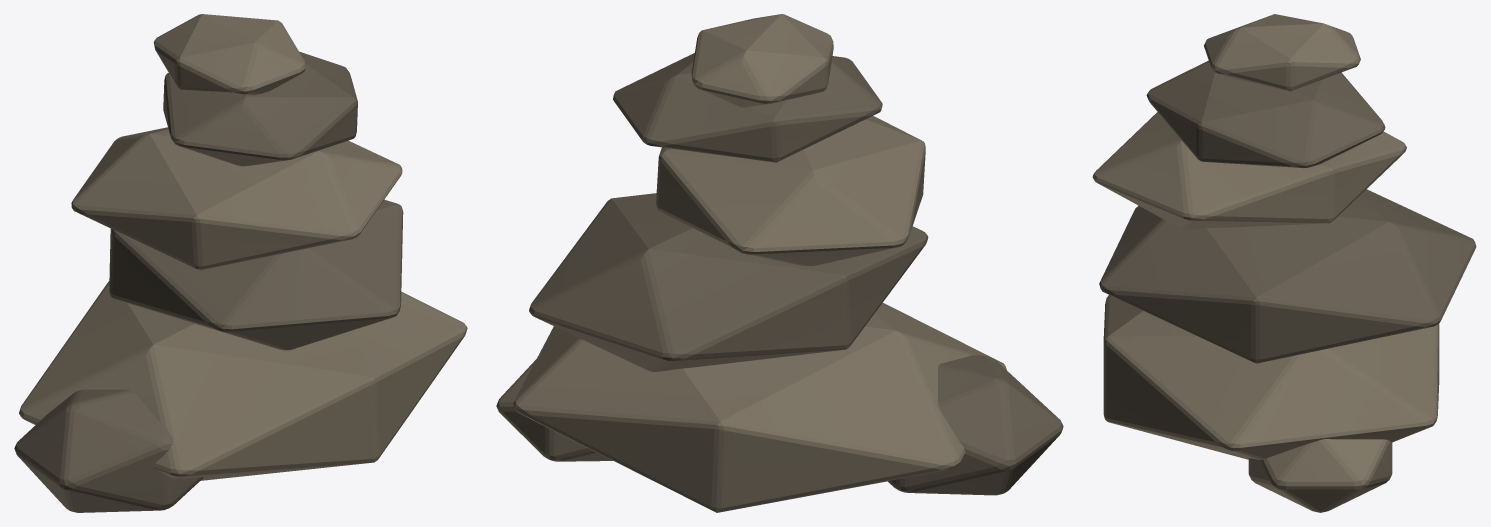
Rendered from prop_mesa.glb.
3 renders of one model, left to right at view 1: azimuth 30°, elevation 25°; view 2: azimuth 150°, elevation 25°; view 3: azimuth 270°, elevation 25°, orthographic. The views are drawn at different scales.
Visible parts, largest first — view 1: prop_mesa_part_0; view 2: prop_mesa_part_0; view 3: prop_mesa_part_0.
Part boxes in pixels (bbox=[...]): prop_mesa_part_0: bbox=[14, 14, 467, 512]; prop_mesa_part_0: bbox=[496, 14, 1063, 512]; prop_mesa_part_0: bbox=[1092, 14, 1476, 512].
Bounding box in the file's own units: 4.5 × 4.09 × 3.53.
